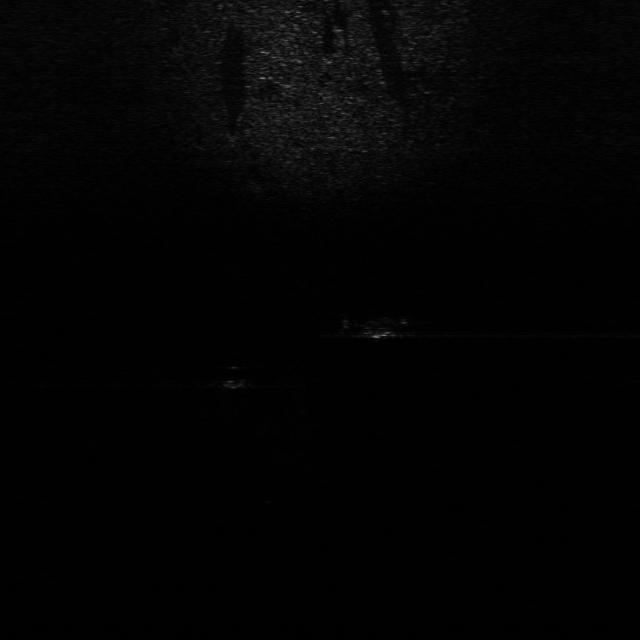ball: (212, 360, 254, 390)
human body: (328, 309, 426, 342)
